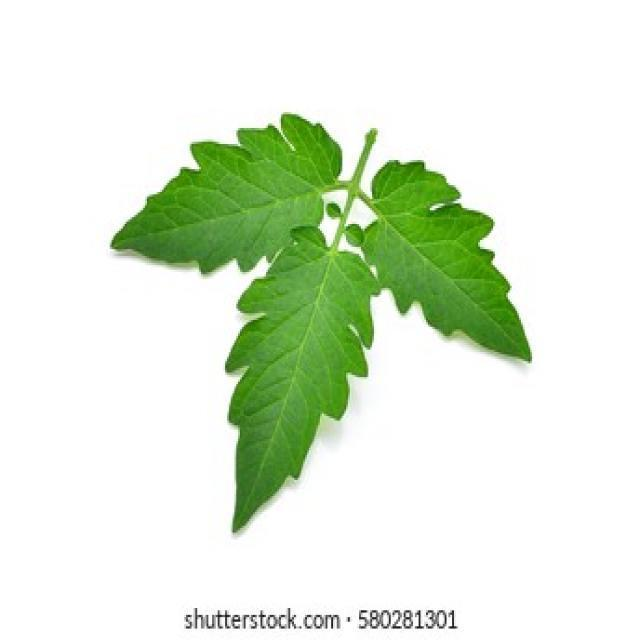Healthy Leaf: (228, 222, 376, 530), (94, 108, 346, 264), (362, 166, 543, 360)
